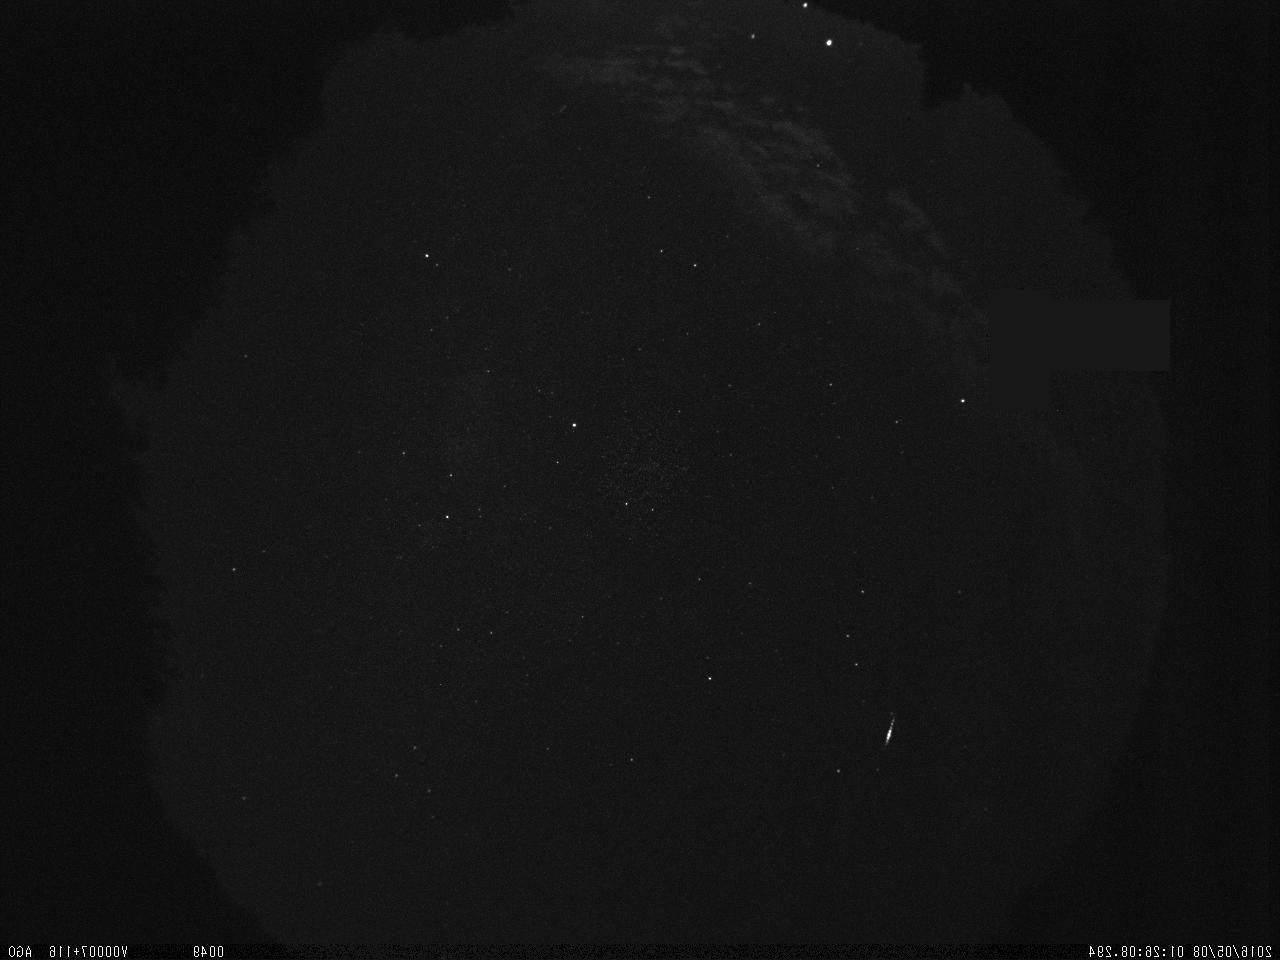meteor: (879, 706, 905, 745)
